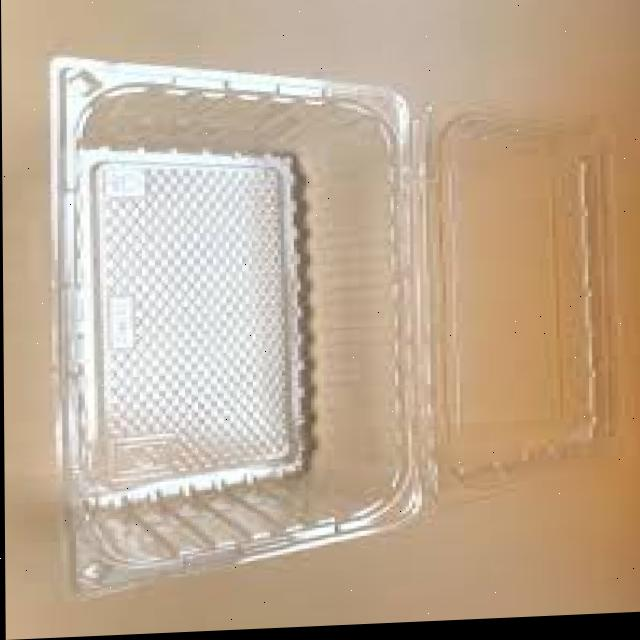disposable: (22, 41, 427, 607)
